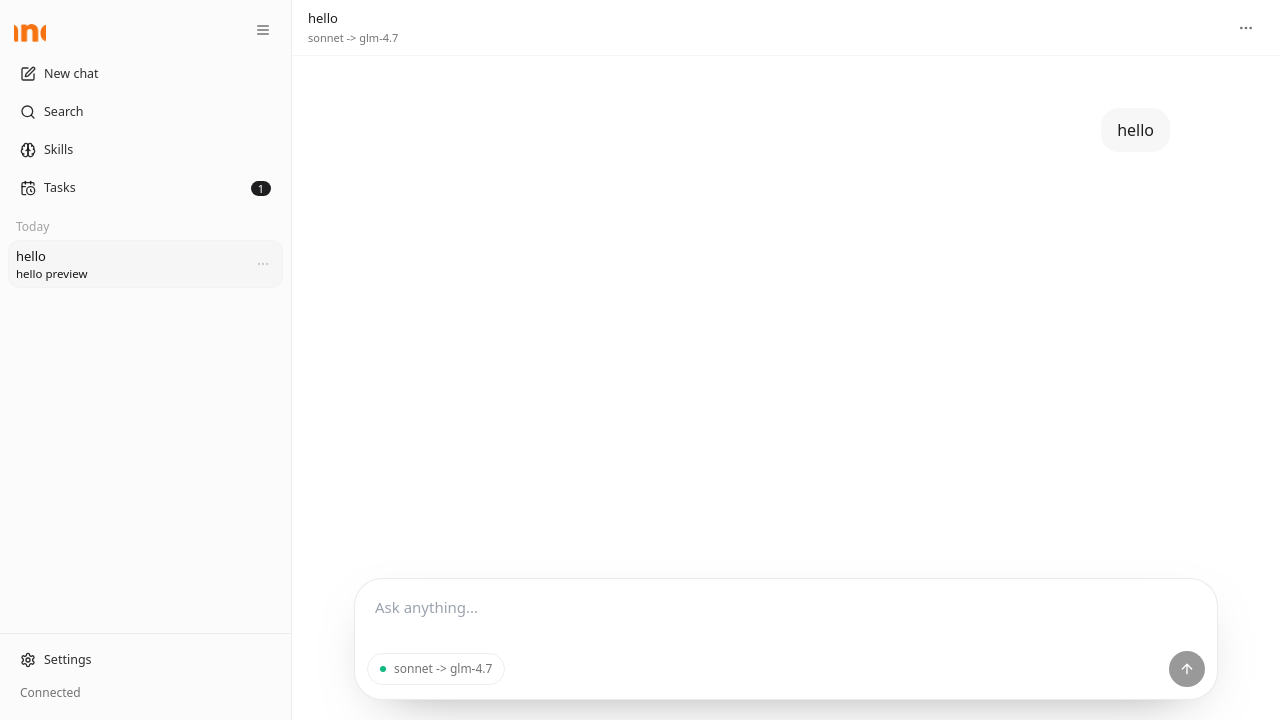
Scenario: App native layout › shows notification results even when their original schedule no longer exists
This screenshot has width=1280, height=720.
Check: the text "Connected" is shown, box [20, 684, 81, 701]
Click the button "Tasks 1".
click(60, 187)  # box [8, 172, 283, 204]
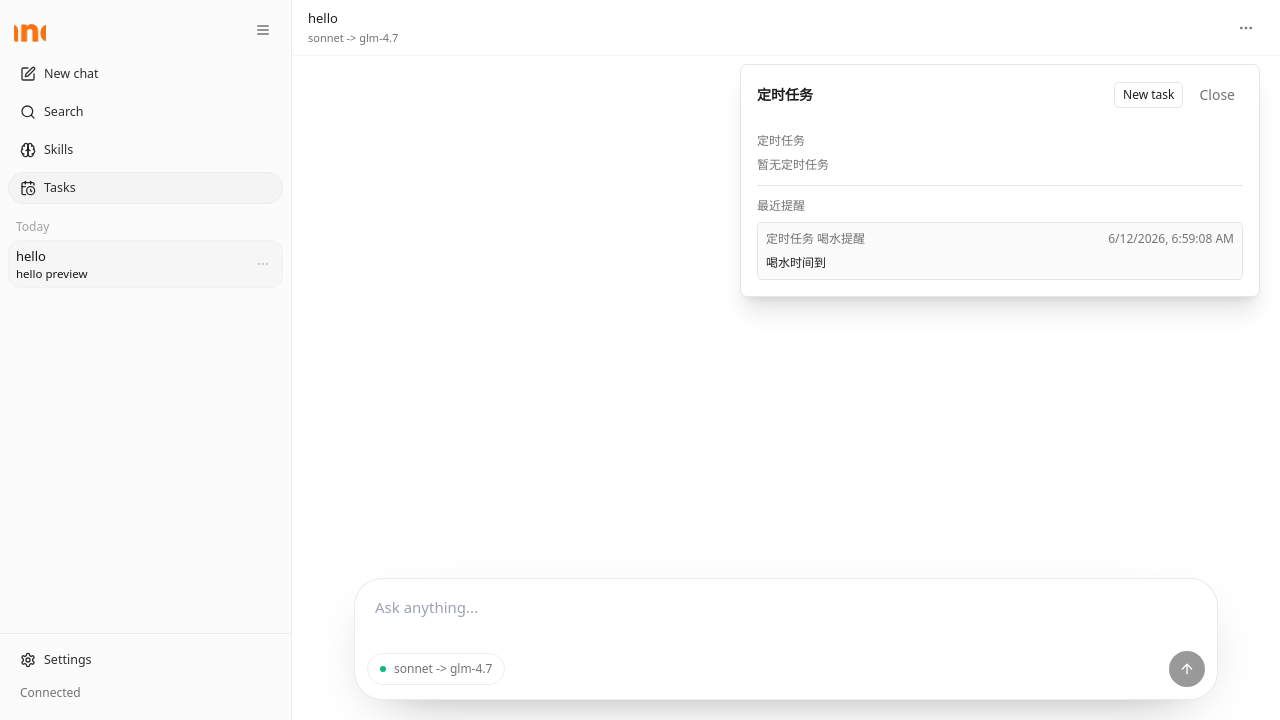
Check: the text "最近提醒" is shown, box [757, 197, 805, 214]
Check: the text "喝水时间到" is shown, box [766, 254, 826, 271]
Check: the text "暂无定时任务" is shown, box [757, 156, 829, 173]
